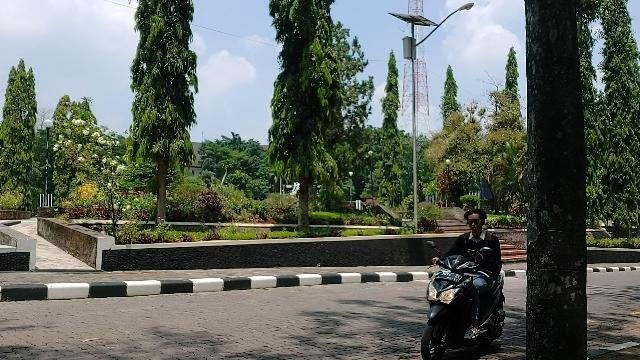motor: (423, 255, 508, 359)
non-helm: (465, 210, 487, 234)
